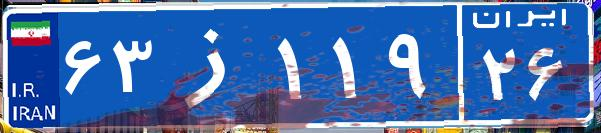1: (273, 28, 330, 110), (330, 28, 385, 110)
2: (475, 38, 525, 113)
3: (110, 28, 158, 105)
6: (57, 26, 110, 107), (525, 38, 570, 115)
9: (385, 28, 445, 110)
ز: (158, 15, 273, 115)
